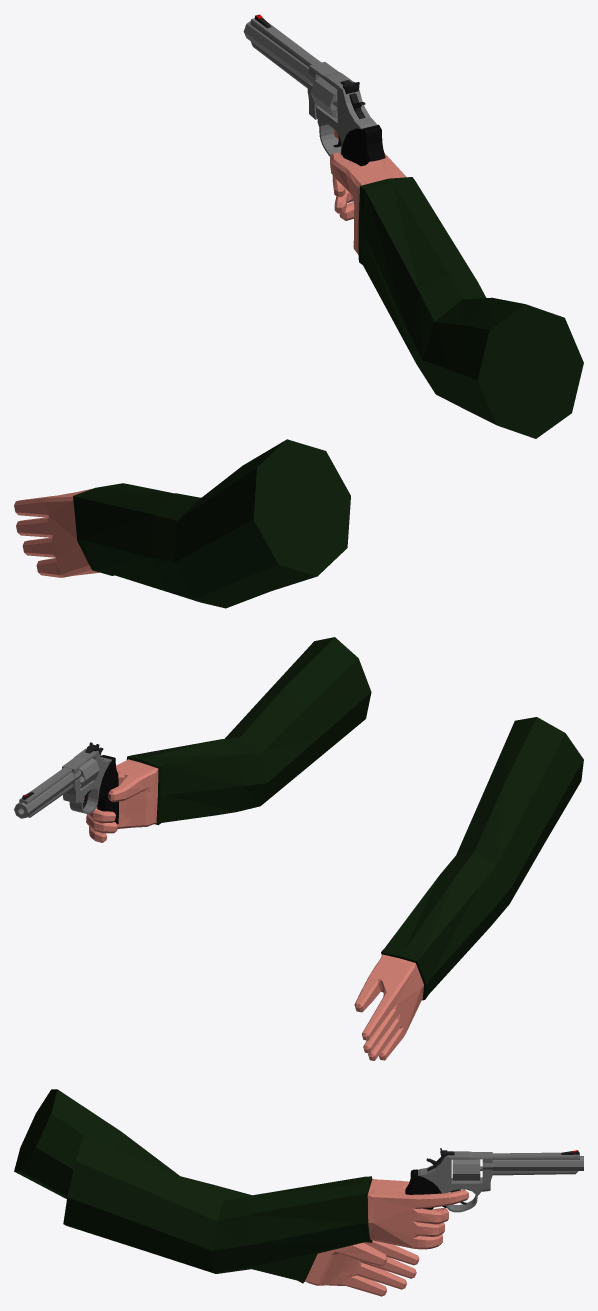
3 views of the same model, one above another, from view 1: azimuth 30°, elevation 25°; view 2: azimuth 150°, elevation 25°; view 3: azimuth 270°, elevation 25° (orthographic). The views are drawn at different scales.
Parts seen in each view (by area): view 1: arms, gun; view 2: arms, gun; view 3: arms, gun.
Part boxes in pixels (box(x1,y1,x2,y2)): arms: box(14, 129, 583, 608); gun: box(243, 14, 385, 166); arms: box(83, 637, 583, 1060); gun: box(14, 742, 118, 824); arms: box(14, 1089, 469, 1296); gun: box(405, 1148, 583, 1212).
Bounding box in the file's own units: 1.2 × 1.08 × 2.08.
